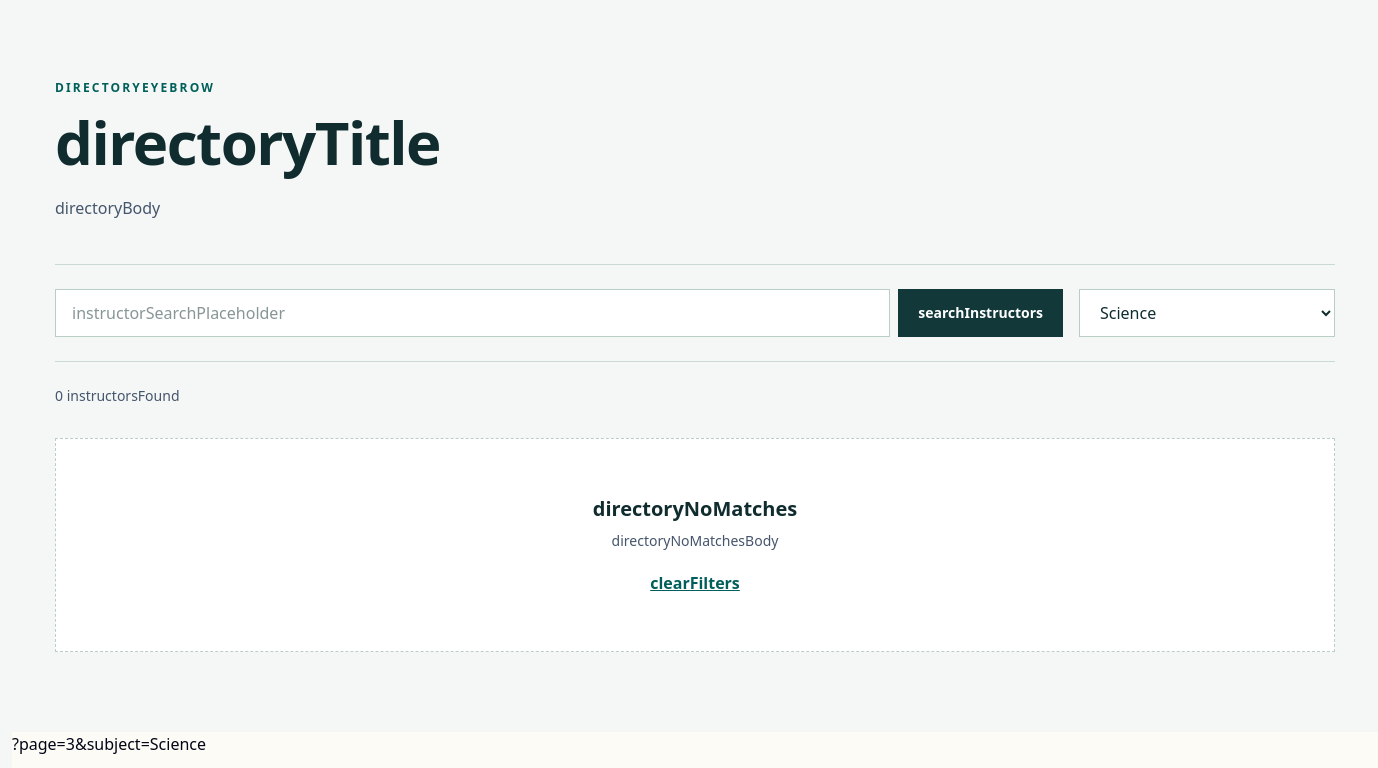
Test case: InstructorsDirectory › resets pagination when a new search or subject is selected
Select "History" in the dropdown named "subject" at coordinates (1207, 313), box [1079,289,1335,337]
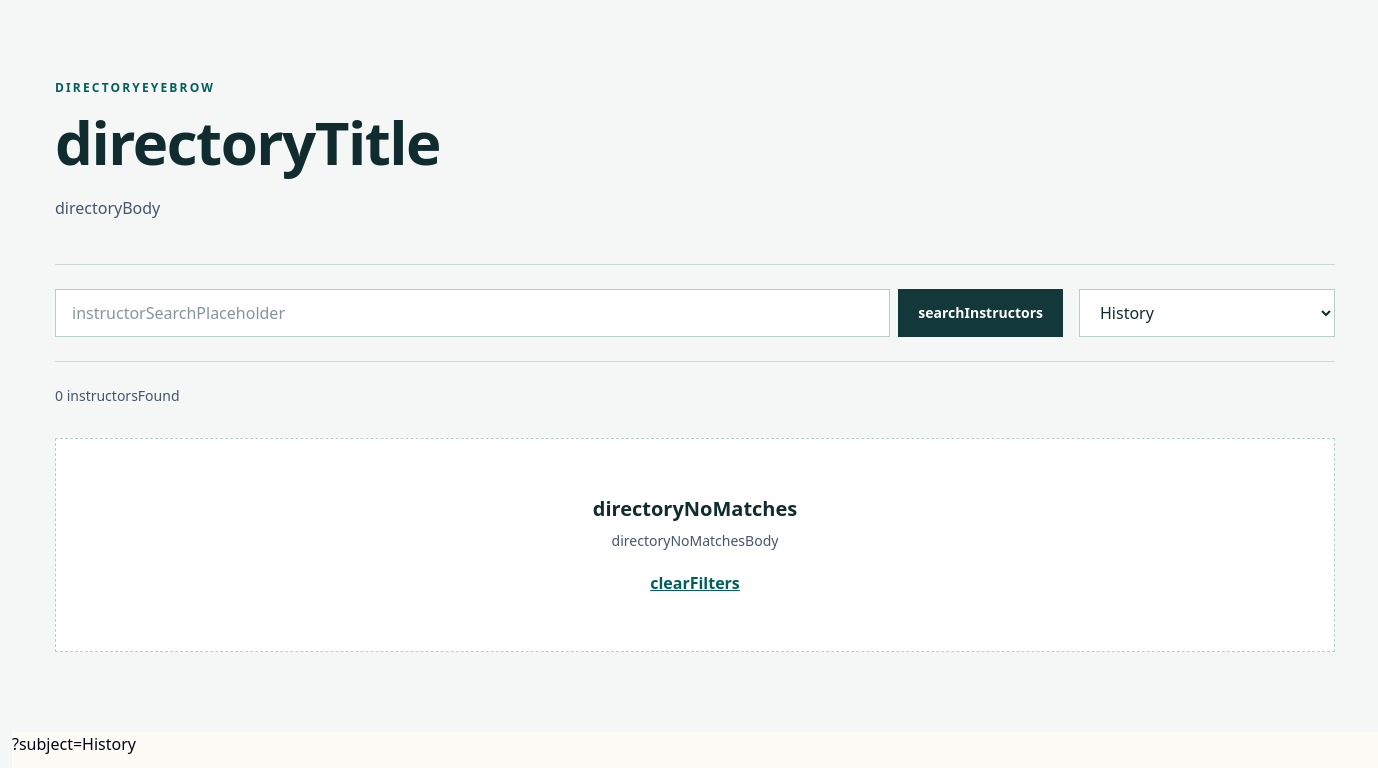
Now the text with test id "location" shows "subject=History", box [12,733,136,755]
Now the text with test id "location" no longer shows "page=", box [12,733,136,755]
Type "Karim" into the field labelled "instructorSearchPlaceholder" at coordinates (473, 313), box [55,289,890,337]
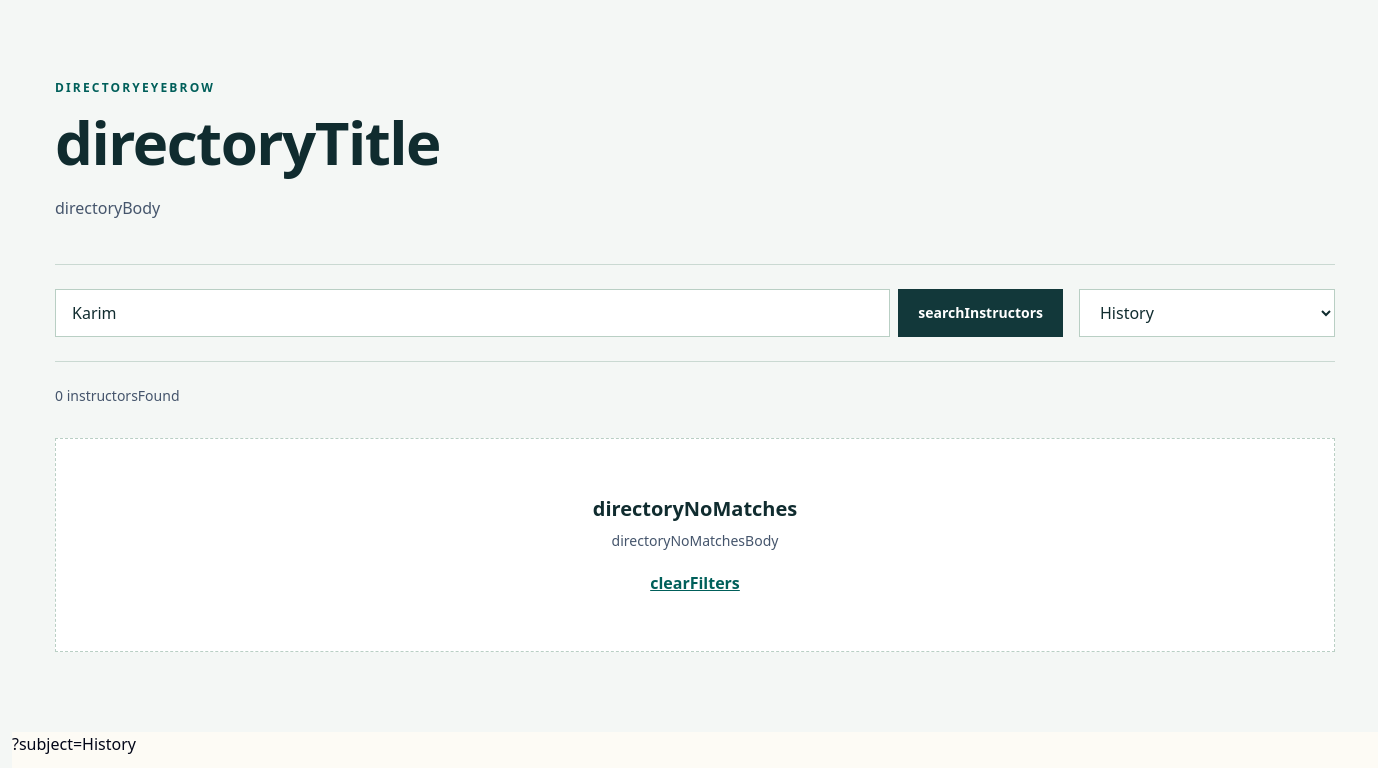
Submit the form, box [55,289,1063,337]
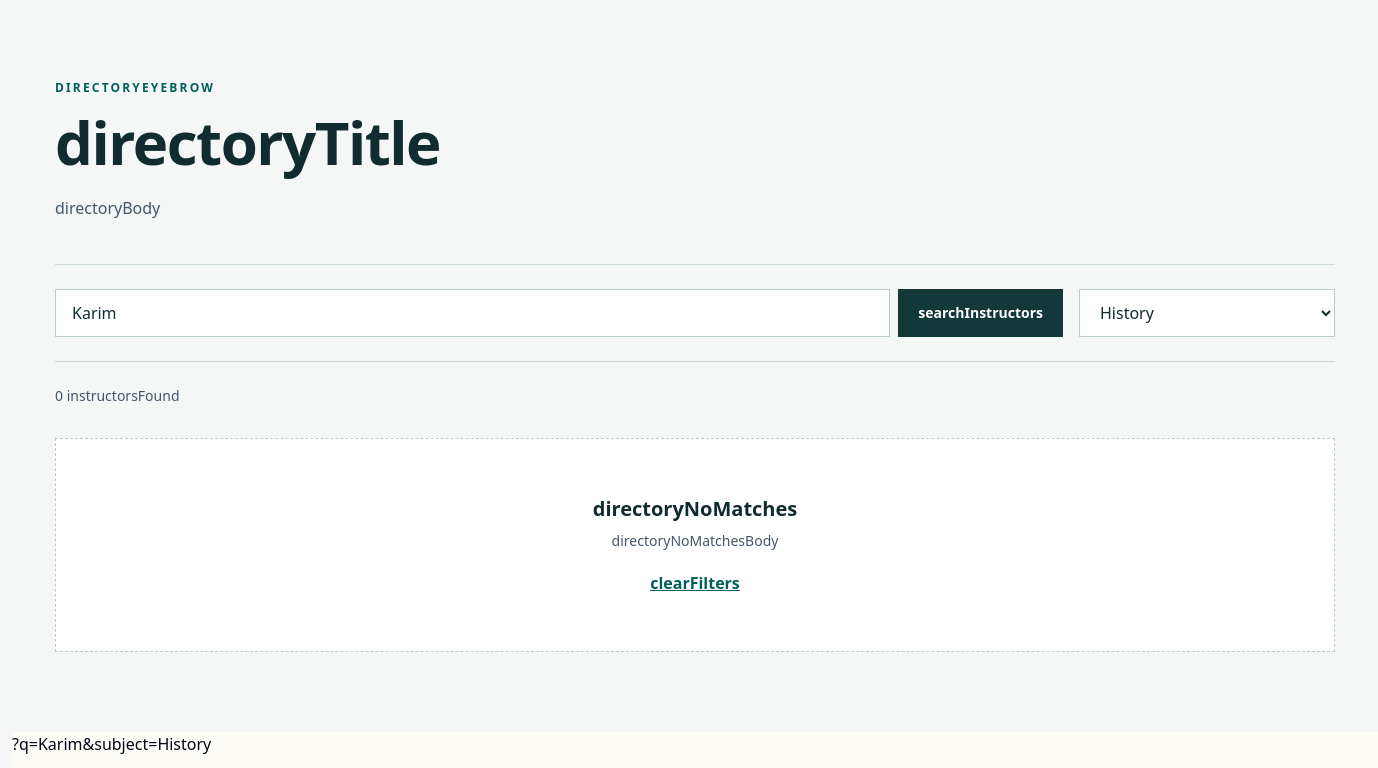
Now the text with test id "location" shows "q=Karim&subject=History", box [12,733,211,755]
